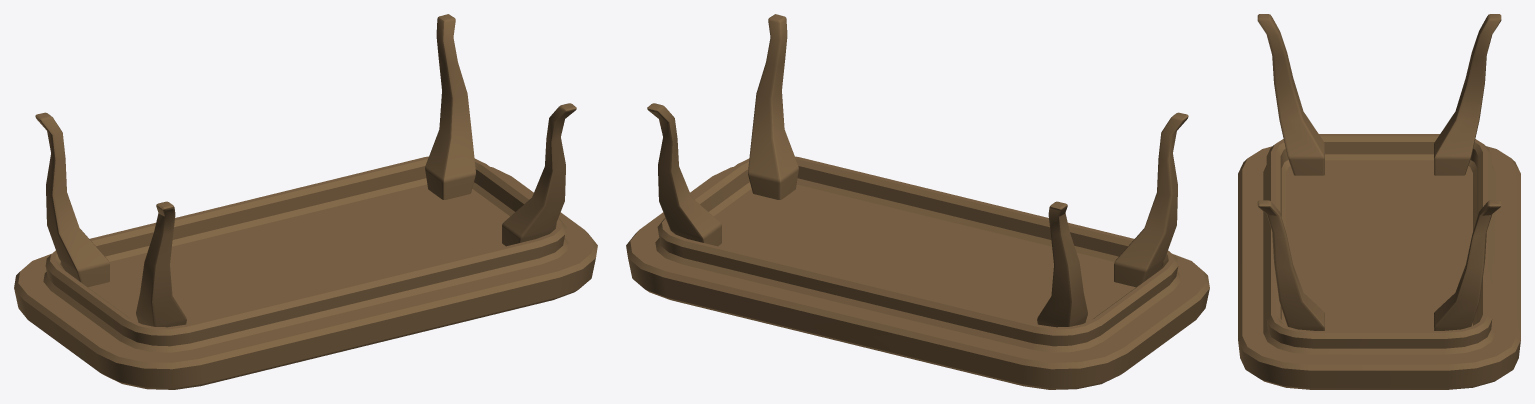
File: prp_coffeetable_01.fbx
The picture shows the model from 3 angles, left to right: view 1: azimuth 30°, elevation 25°; view 2: azimuth 150°, elevation 25°; view 3: azimuth 270°, elevation 25°; orthographic projection. The views are drawn at different scales.
Visible parts, largest first — view 1: PRP_CoffeeTable_Top, PRP_CoffeeTable; view 2: PRP_CoffeeTable_Top, PRP_CoffeeTable; view 3: PRP_CoffeeTable_Top, PRP_CoffeeTable.
Boxes of the visible parts, x1,y1,x2,y2 form: PRP_CoffeeTable_Top: [14, 156, 597, 389]; PRP_CoffeeTable: [35, 14, 576, 327]; PRP_CoffeeTable_Top: [626, 156, 1209, 389]; PRP_CoffeeTable: [647, 14, 1188, 327]; PRP_CoffeeTable_Top: [1238, 134, 1520, 389]; PRP_CoffeeTable: [1257, 14, 1501, 330].
Bounding box in the file's own units: 20512 × 7191 × 10792.
